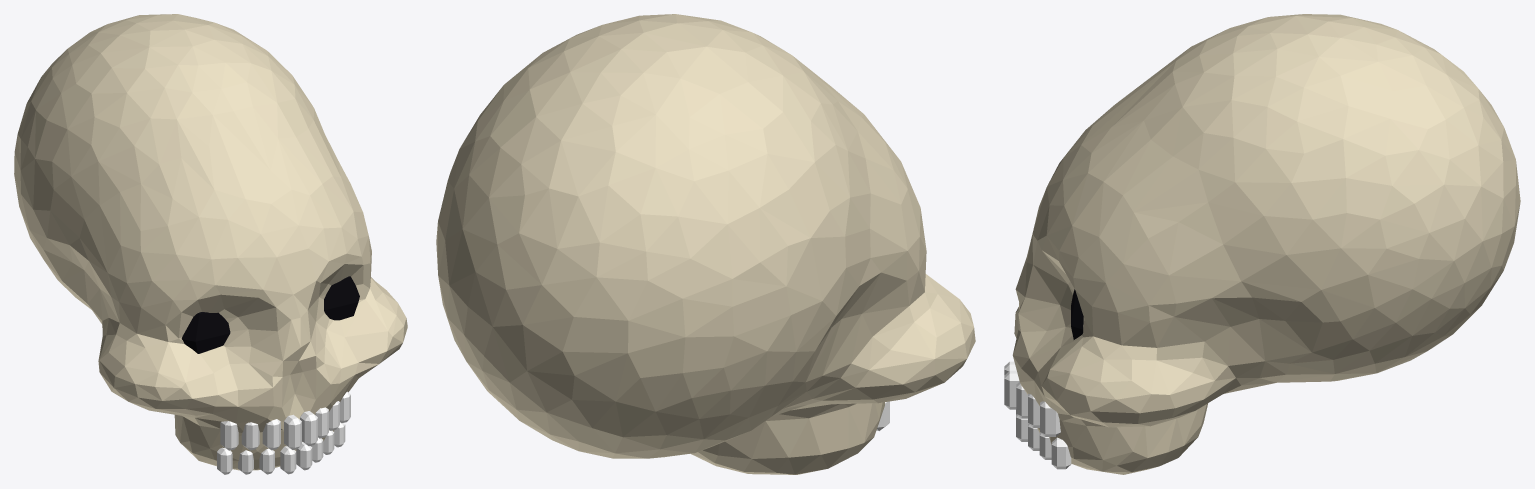
The model's file is craneo.glb.
3 views of the same model, side by side, from view 1: azimuth 30°, elevation 25°; view 2: azimuth 150°, elevation 25°; view 3: azimuth 270°, elevation 25° (orthographic). The views are drawn at different scales.
Parts seen in each view (by area): view 1: craneo; view 2: craneo; view 3: craneo.
Part boxes in pixels (x1=…): craneo: x1=14, y1=14, x2=407, y2=474; craneo: x1=436, y1=14, x2=975, y2=474; craneo: x1=1004, y1=14, x2=1520, y2=474.
Bounding box in the file's own units: 0.2142 × 0.2628 × 0.287.
